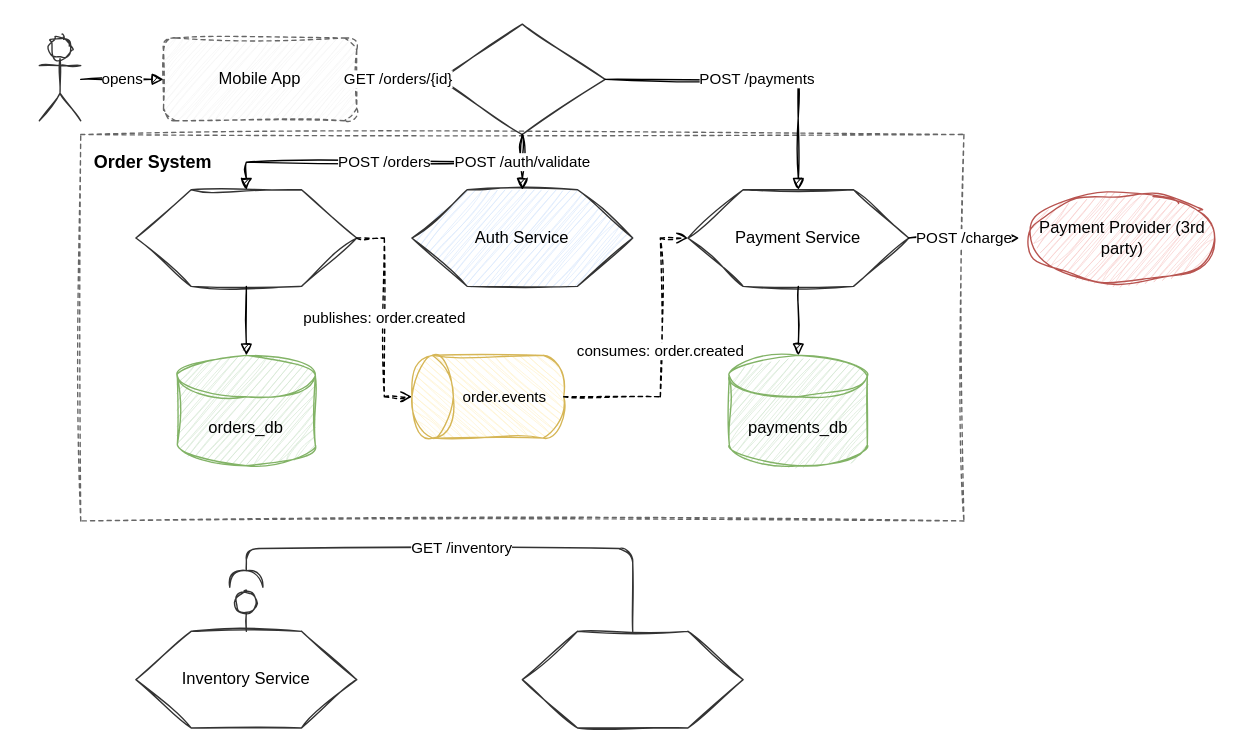
Image size: 1250x752. Some labels were removed from this diagram. The centre of each missing label's shape, as x and y in pixels:
API Gateway: the point at 521,79
Customer: the point at 59,79
Order Service: the point at 246,237
Reporting Service: the point at 632,679
